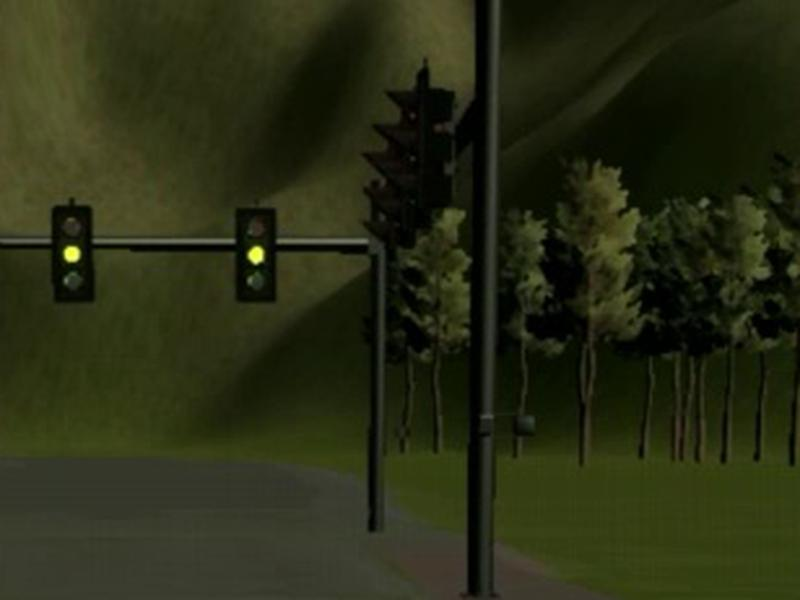Yellow: (52, 205, 95, 300), (236, 207, 277, 302)
